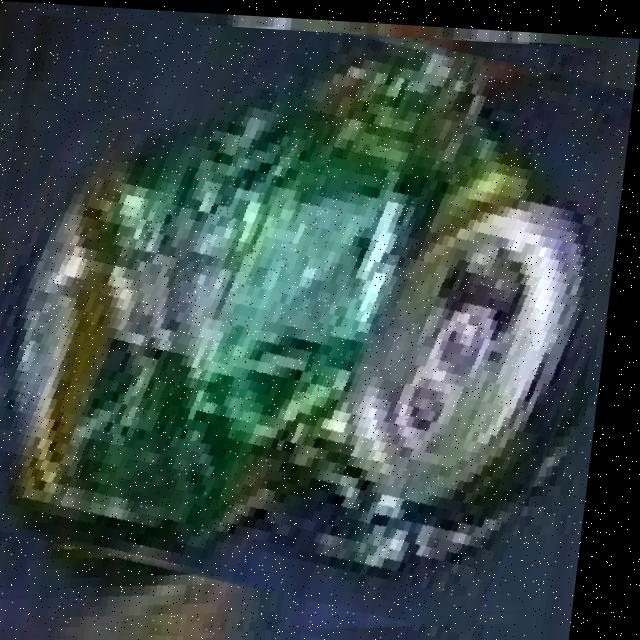litter: (0, 23, 623, 628)
